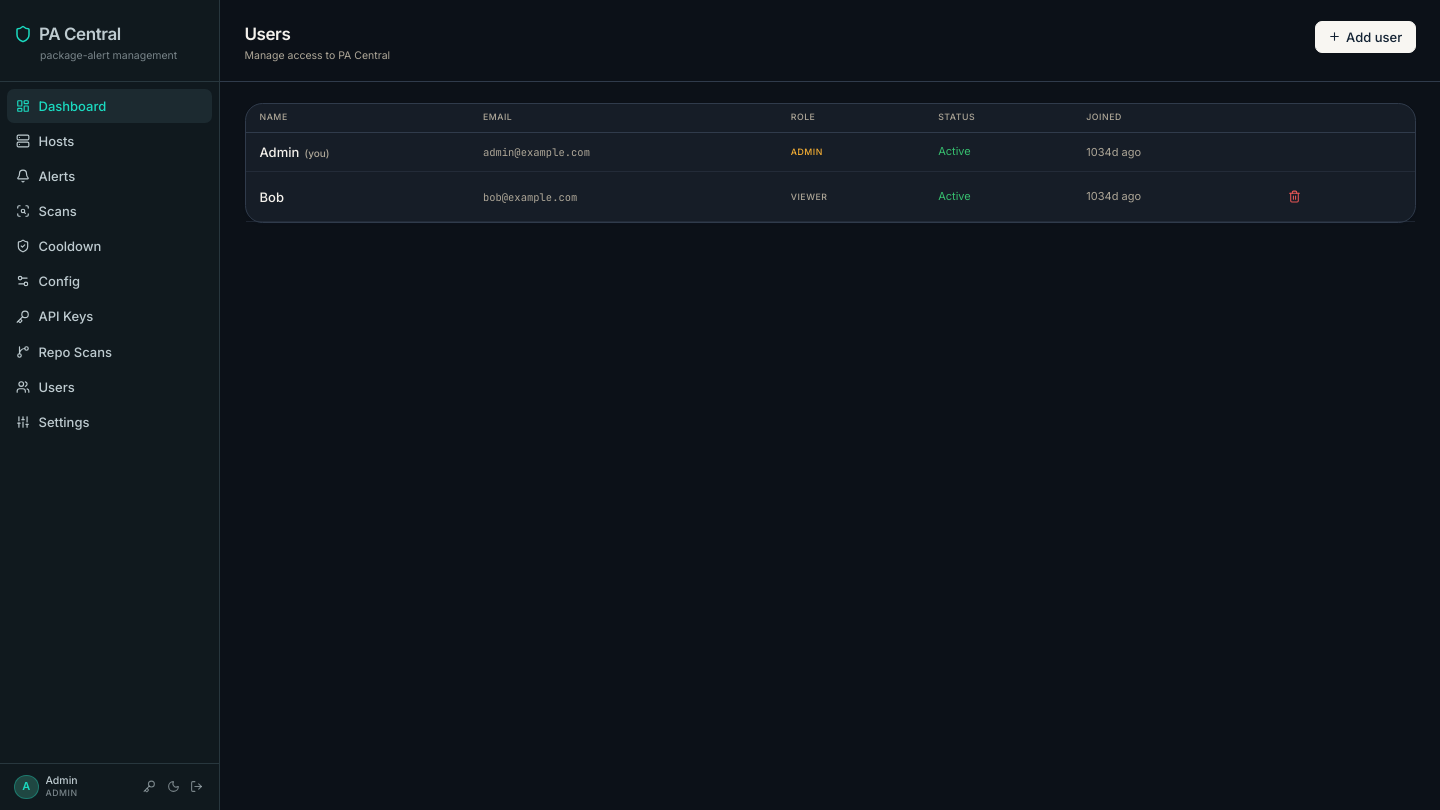
it: Users page — admin password reset › reports that the password was invalidated and a link is being sent
Click the text "Bob" at [272, 197], box [246,172,469,222]
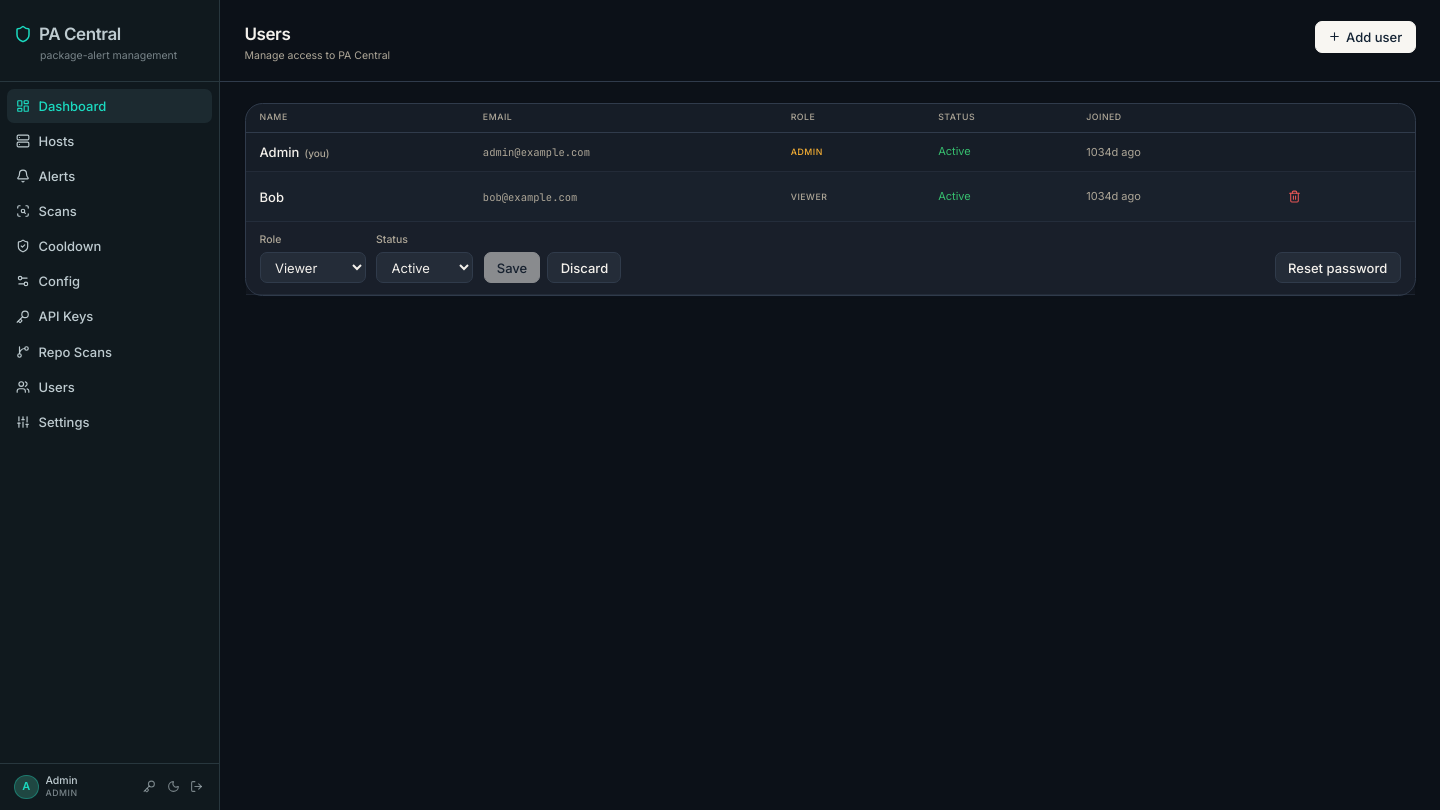
Click the button "Reset password" at [1338, 268], box [1275,252,1400,283]
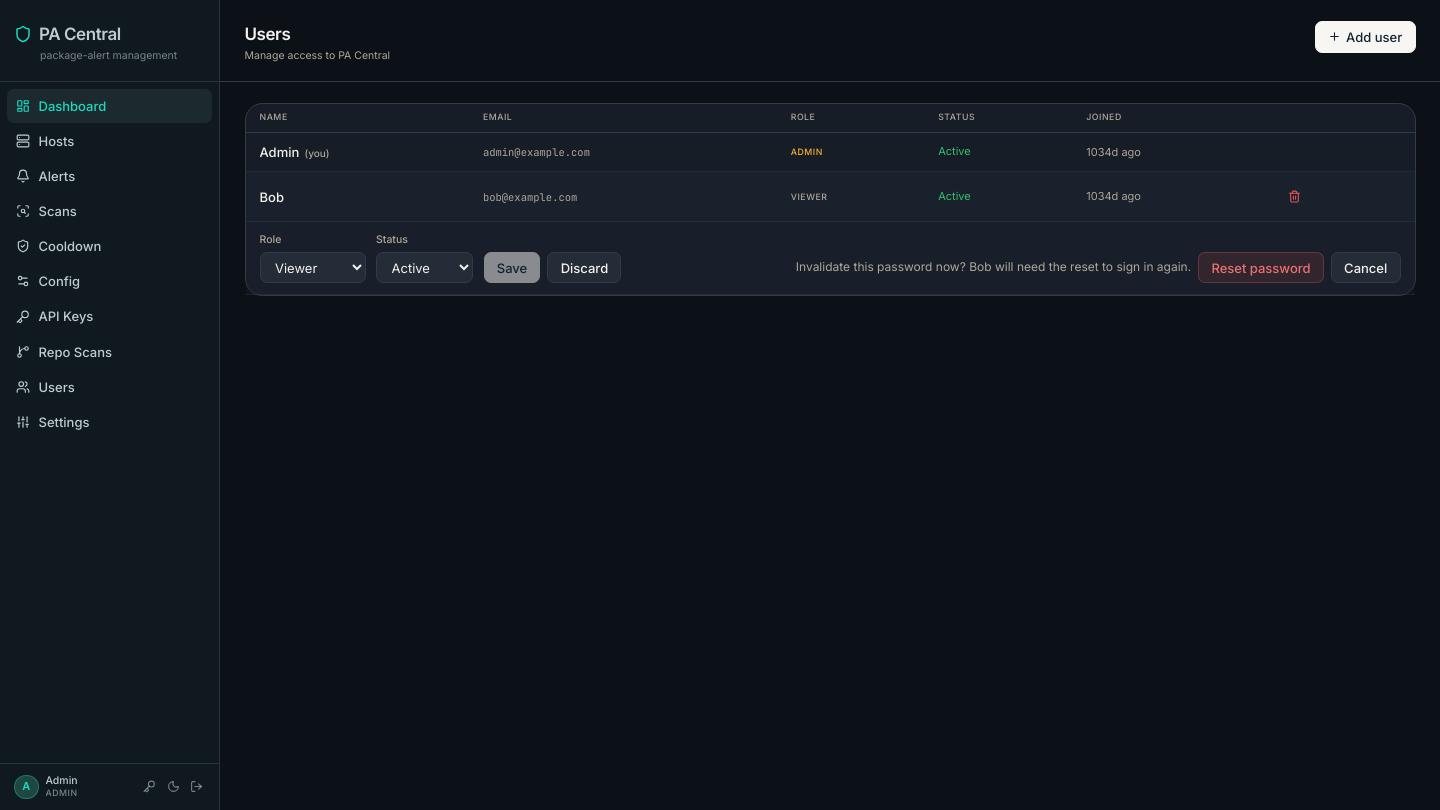
Click the button "Reset password" at [1261, 268], box [1198,252,1324,283]
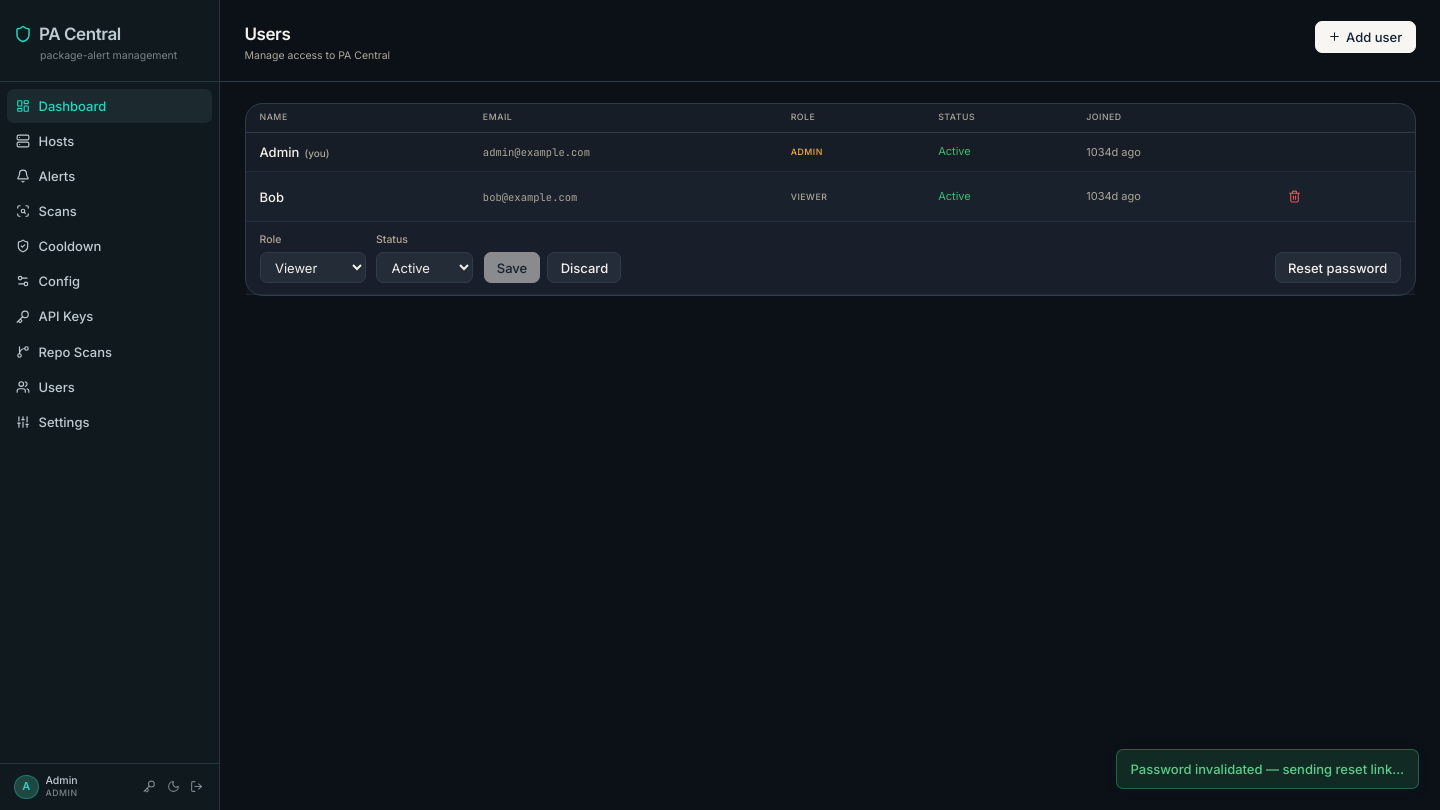
Check: the text "Password invalidated — sending reset link…" is shown, box [1116,749,1419,789]
